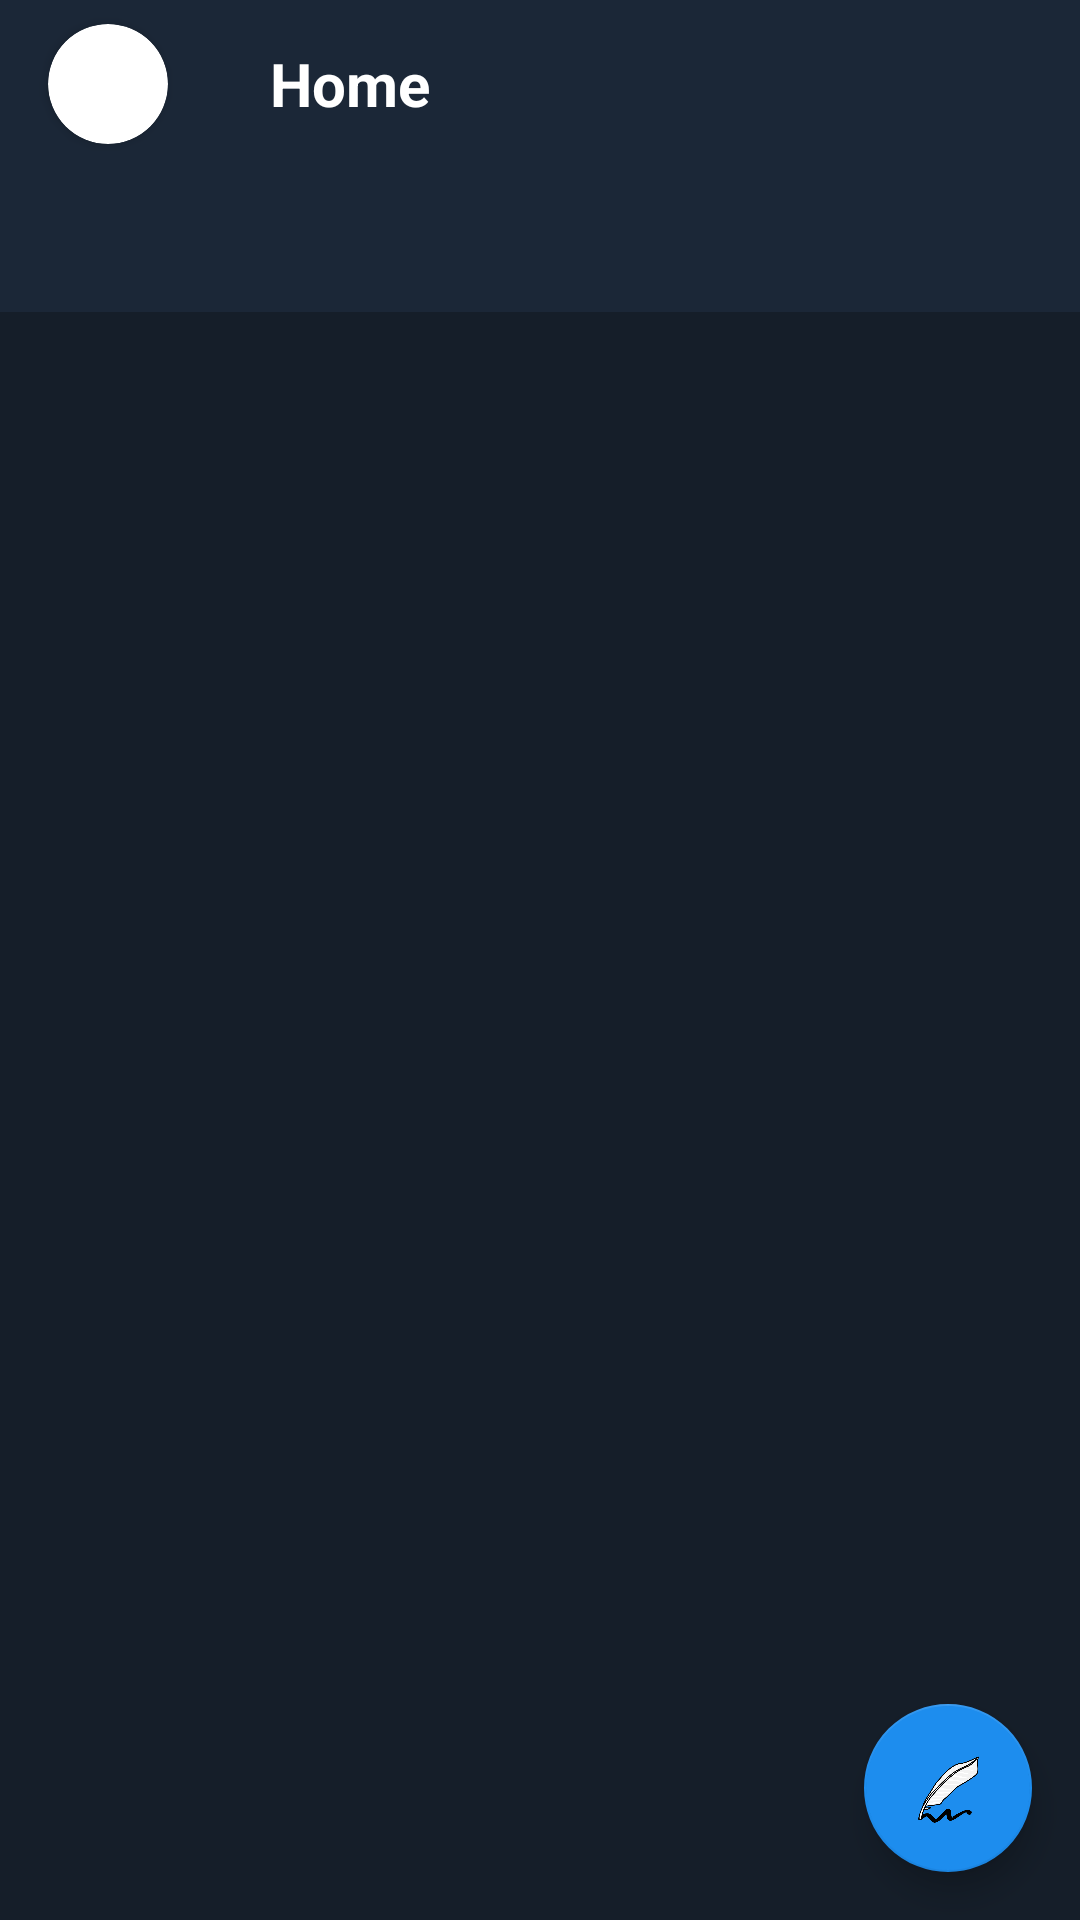

Icons on this 1080 × 1920 Android screen, each with the point to tap as [x,y]:
addtweet: [948,1788]
